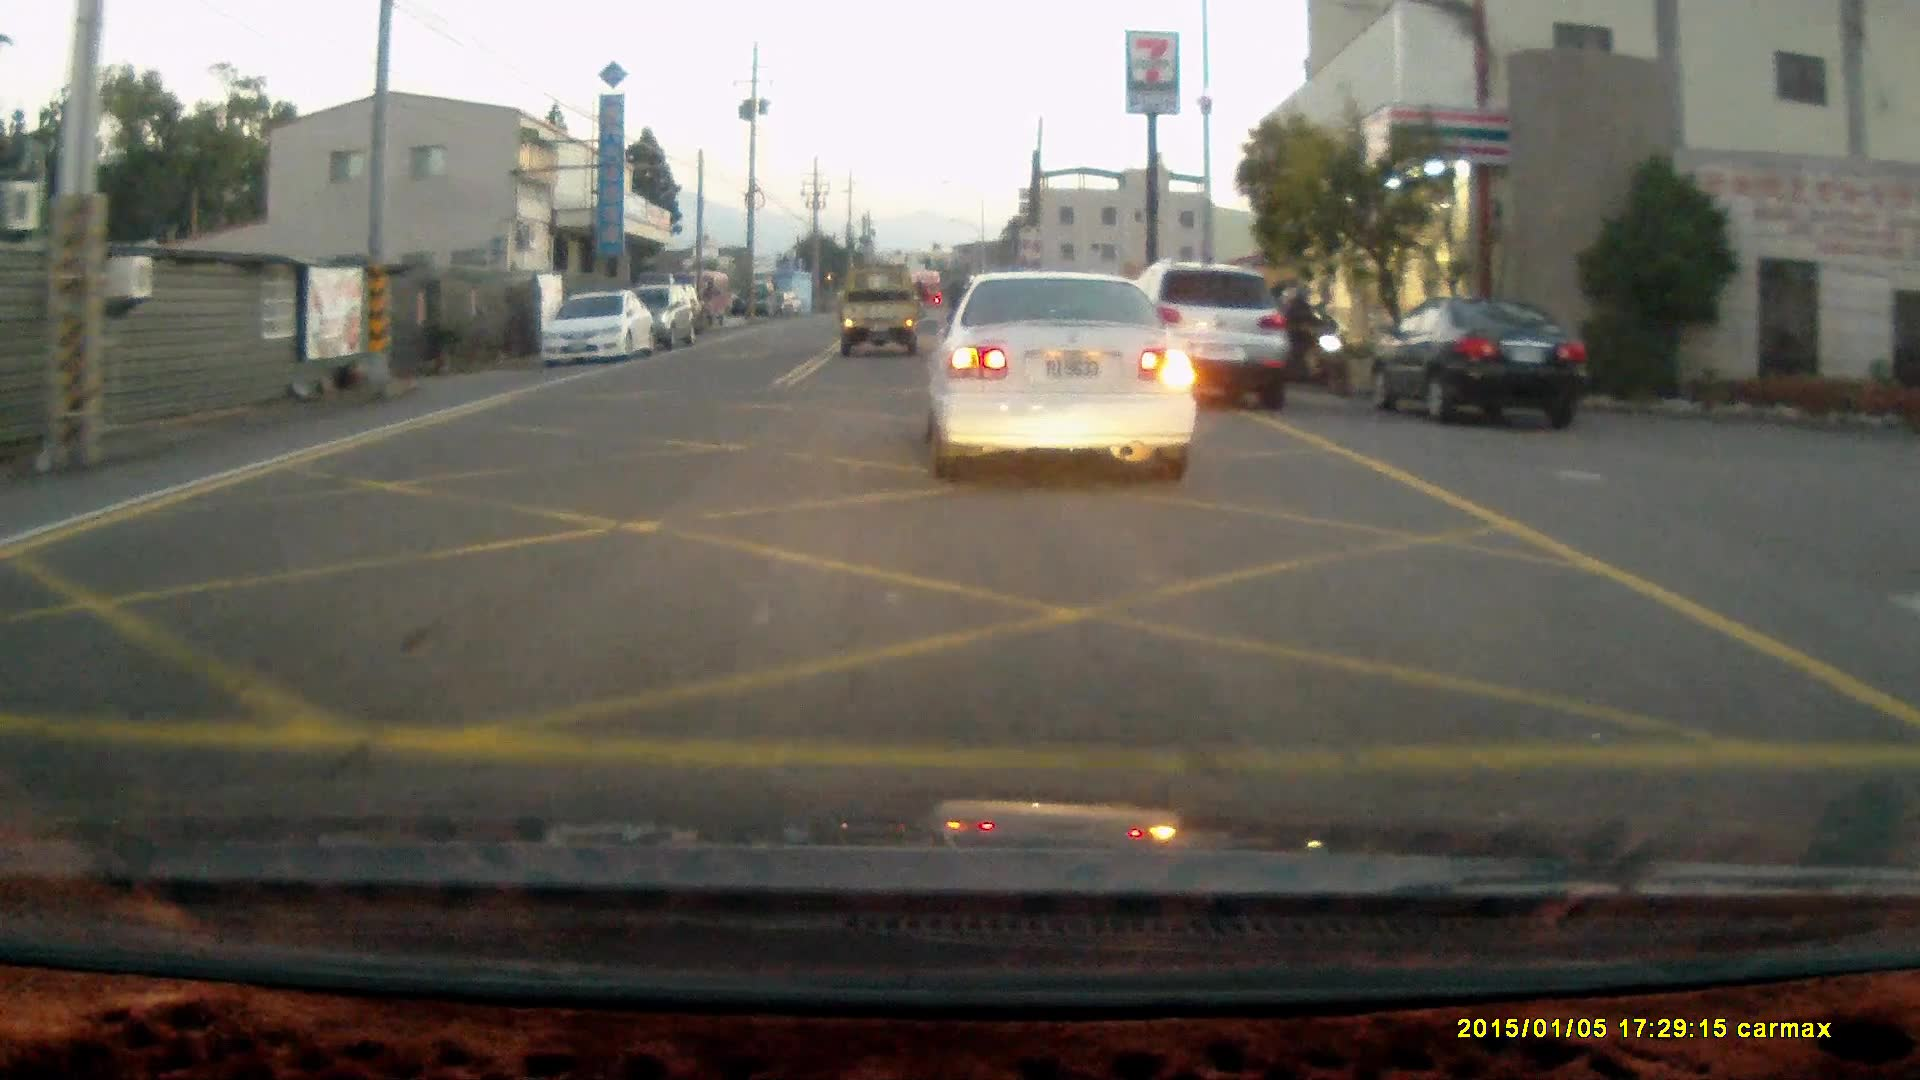rider: (1270, 281, 1353, 395)
vehicle: (942, 274, 1206, 490), (1367, 298, 1588, 430), (1138, 262, 1302, 412), (538, 287, 655, 371), (843, 264, 931, 356), (628, 284, 701, 352)
